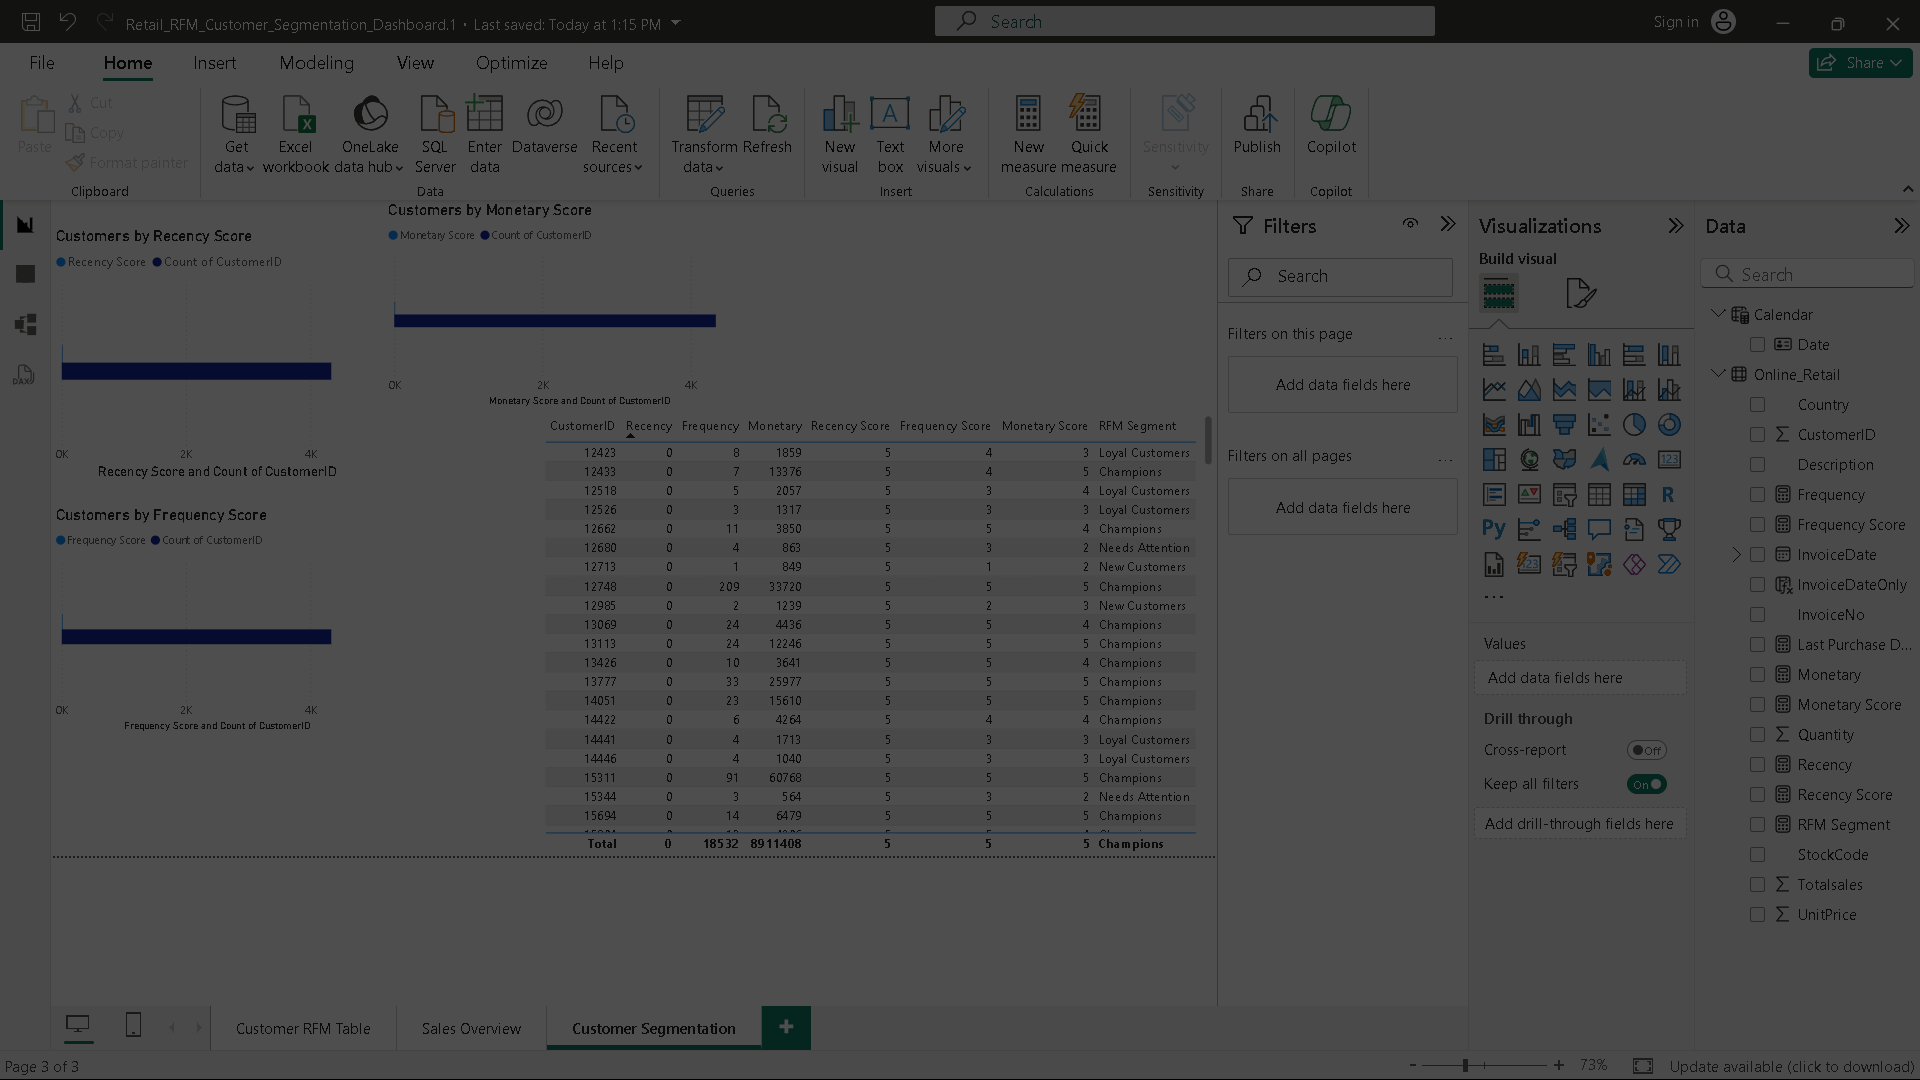

This screenshot's page, from the dashboard's own definition file:
{"tool":"powerbi","page":{"name":"Customer Segmentation","canvas":[1280,720],"ordinal":2},"visuals":[{"type":"tableEx","fields":{"Values":["Online_Retail.CustomerID","Online_Retail.Recency","Online_Retail.Frequency","Online_Retail.Monetary","Online_Retail.Recency Score","Online_Retail.Frequency Score","Online_Retail.Monetary Score","Online_Retail.RFM Segment"]},"box":[536.5,231.9,743.7,488.5],"z":0},{"type":"clusteredBarChart","title":"Customers by Recency Score","fields":{"Y":["Online_Retail.Recency Score","Count(Online_Retail.CustomerID)"]},"box":[0,28.8,365,282.7],"z":1000},{"type":"clusteredBarChart","title":"Customers by Frequency Score","fields":{"Y":["Online_Retail.Frequency Score","Count(Online_Retail.CustomerID)"]},"box":[0,334.8,365,253.9],"z":2000},{"type":"clusteredBarChart","title":"Customers by Monetary Score","fields":{"Y":["Online_Retail.Monetary Score","Count(Online_Retail.CustomerID)"]},"box":[365,0,430.9,231.9],"z":3000}]}

Visuals, with their boxes on the page's 1280x720 design canvas (x1, y1, x2, y2). These are canvas units, not pixel positions in the 1920x1080 screenshot, which may show the page scaled, cropped or inside an application window:
tableEx - Online_Retail.CustomerID x Online_Retail.Recency: bbox(536, 232, 1280, 720)
"Customers by Recency Score" clusteredBarChart: bbox(0, 29, 365, 312)
"Customers by Frequency Score" clusteredBarChart: bbox(0, 335, 365, 589)
"Customers by Monetary Score" clusteredBarChart: bbox(365, 0, 796, 232)
